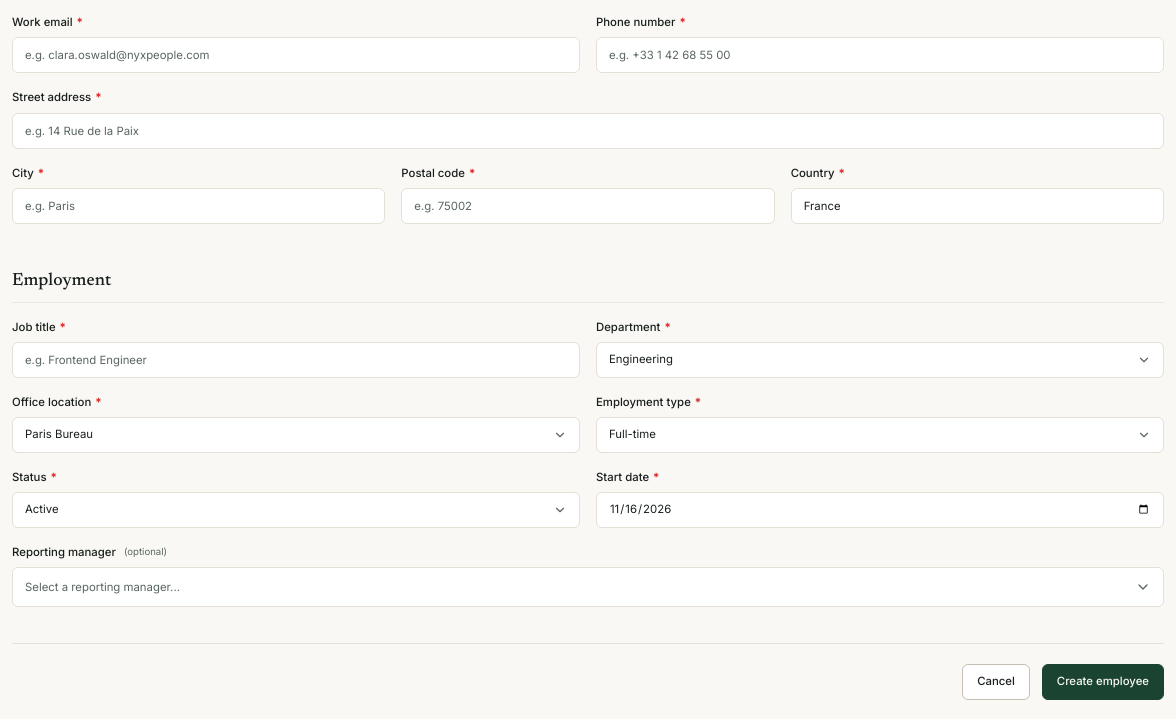
Phase B: Interaction and Accessibility Correctness › 7. Screen Reader Field Error Semantics › does NOT place role="alert" on individual field errors to prevent duplicate announcements
This screenshot has width=1176, height=719.
(page scrolled)
Click the button "Create employee" at x=1103, y=682, box [1042,664,1164,700]
(page scrolled)
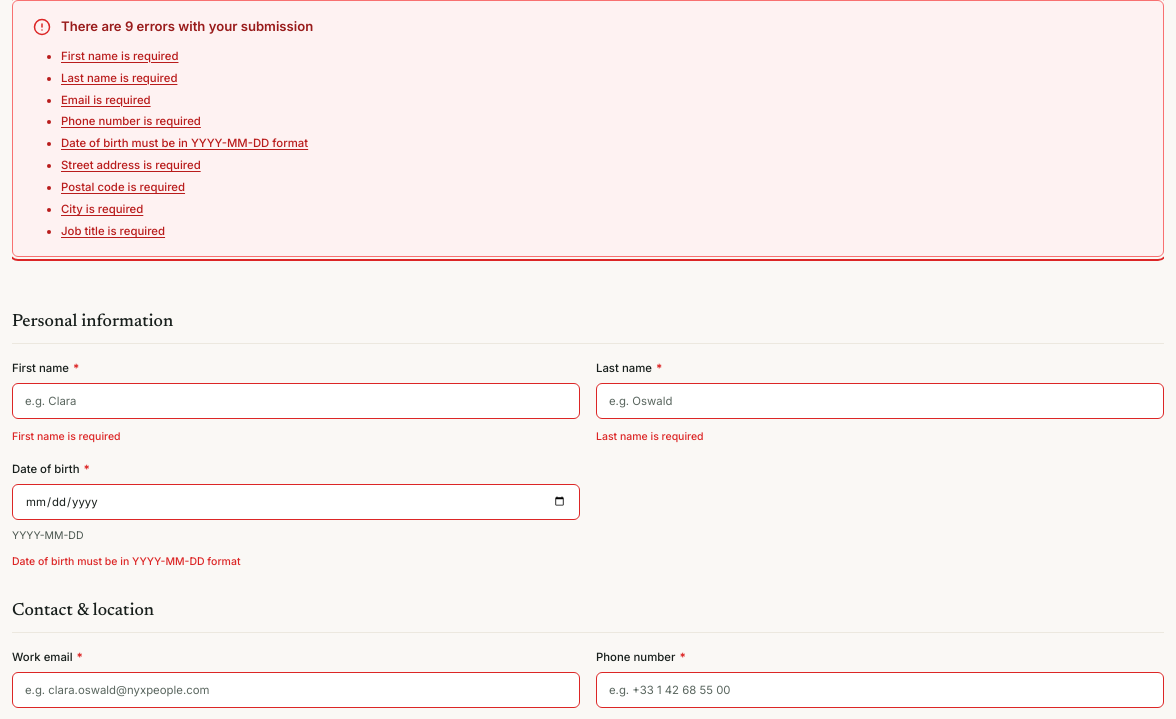
Check: the message shows "errors with your submission", box [61,18,313,34]
Check: the text "First name is required" is shown, box [12,430,121,443]
